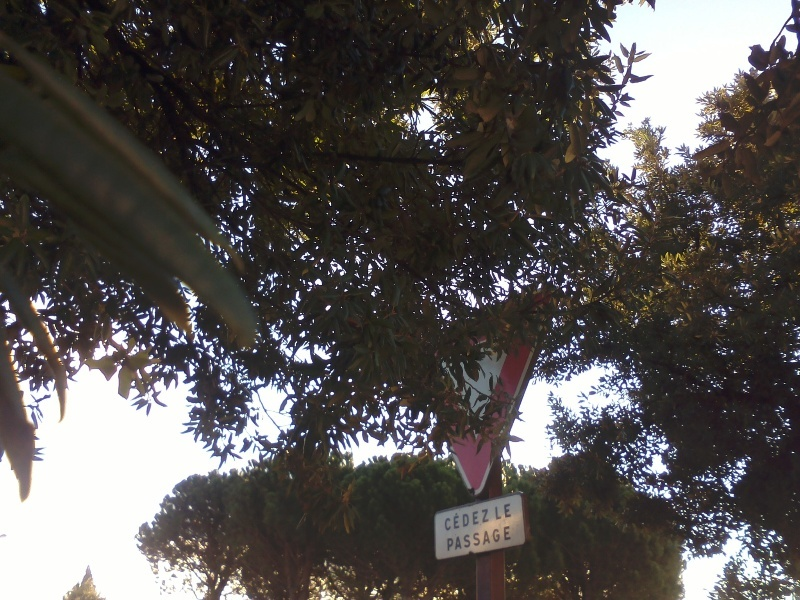text: (449, 526, 464, 553), (465, 526, 480, 553), (481, 526, 496, 553), (497, 526, 512, 553), (449, 506, 464, 532), (465, 506, 480, 532), (497, 503, 512, 520), (481, 506, 490, 532), (445, 506, 448, 532), (446, 526, 448, 553), (495, 503, 496, 520)
